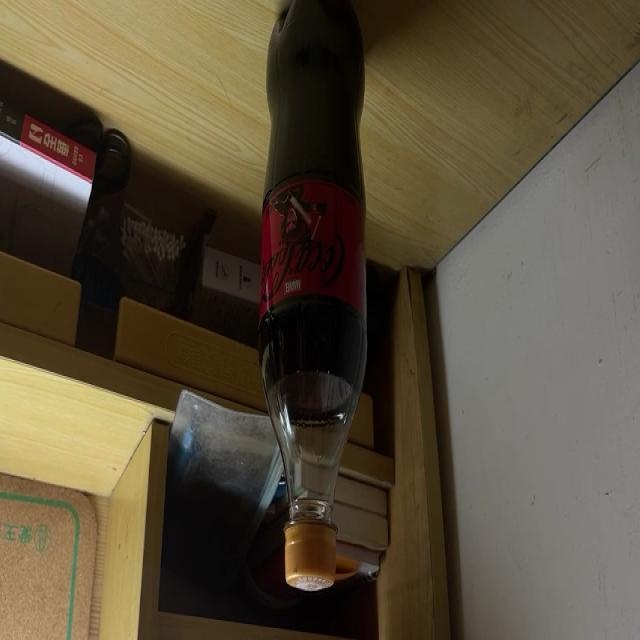Coca-Cola: (262, 3, 368, 588)
